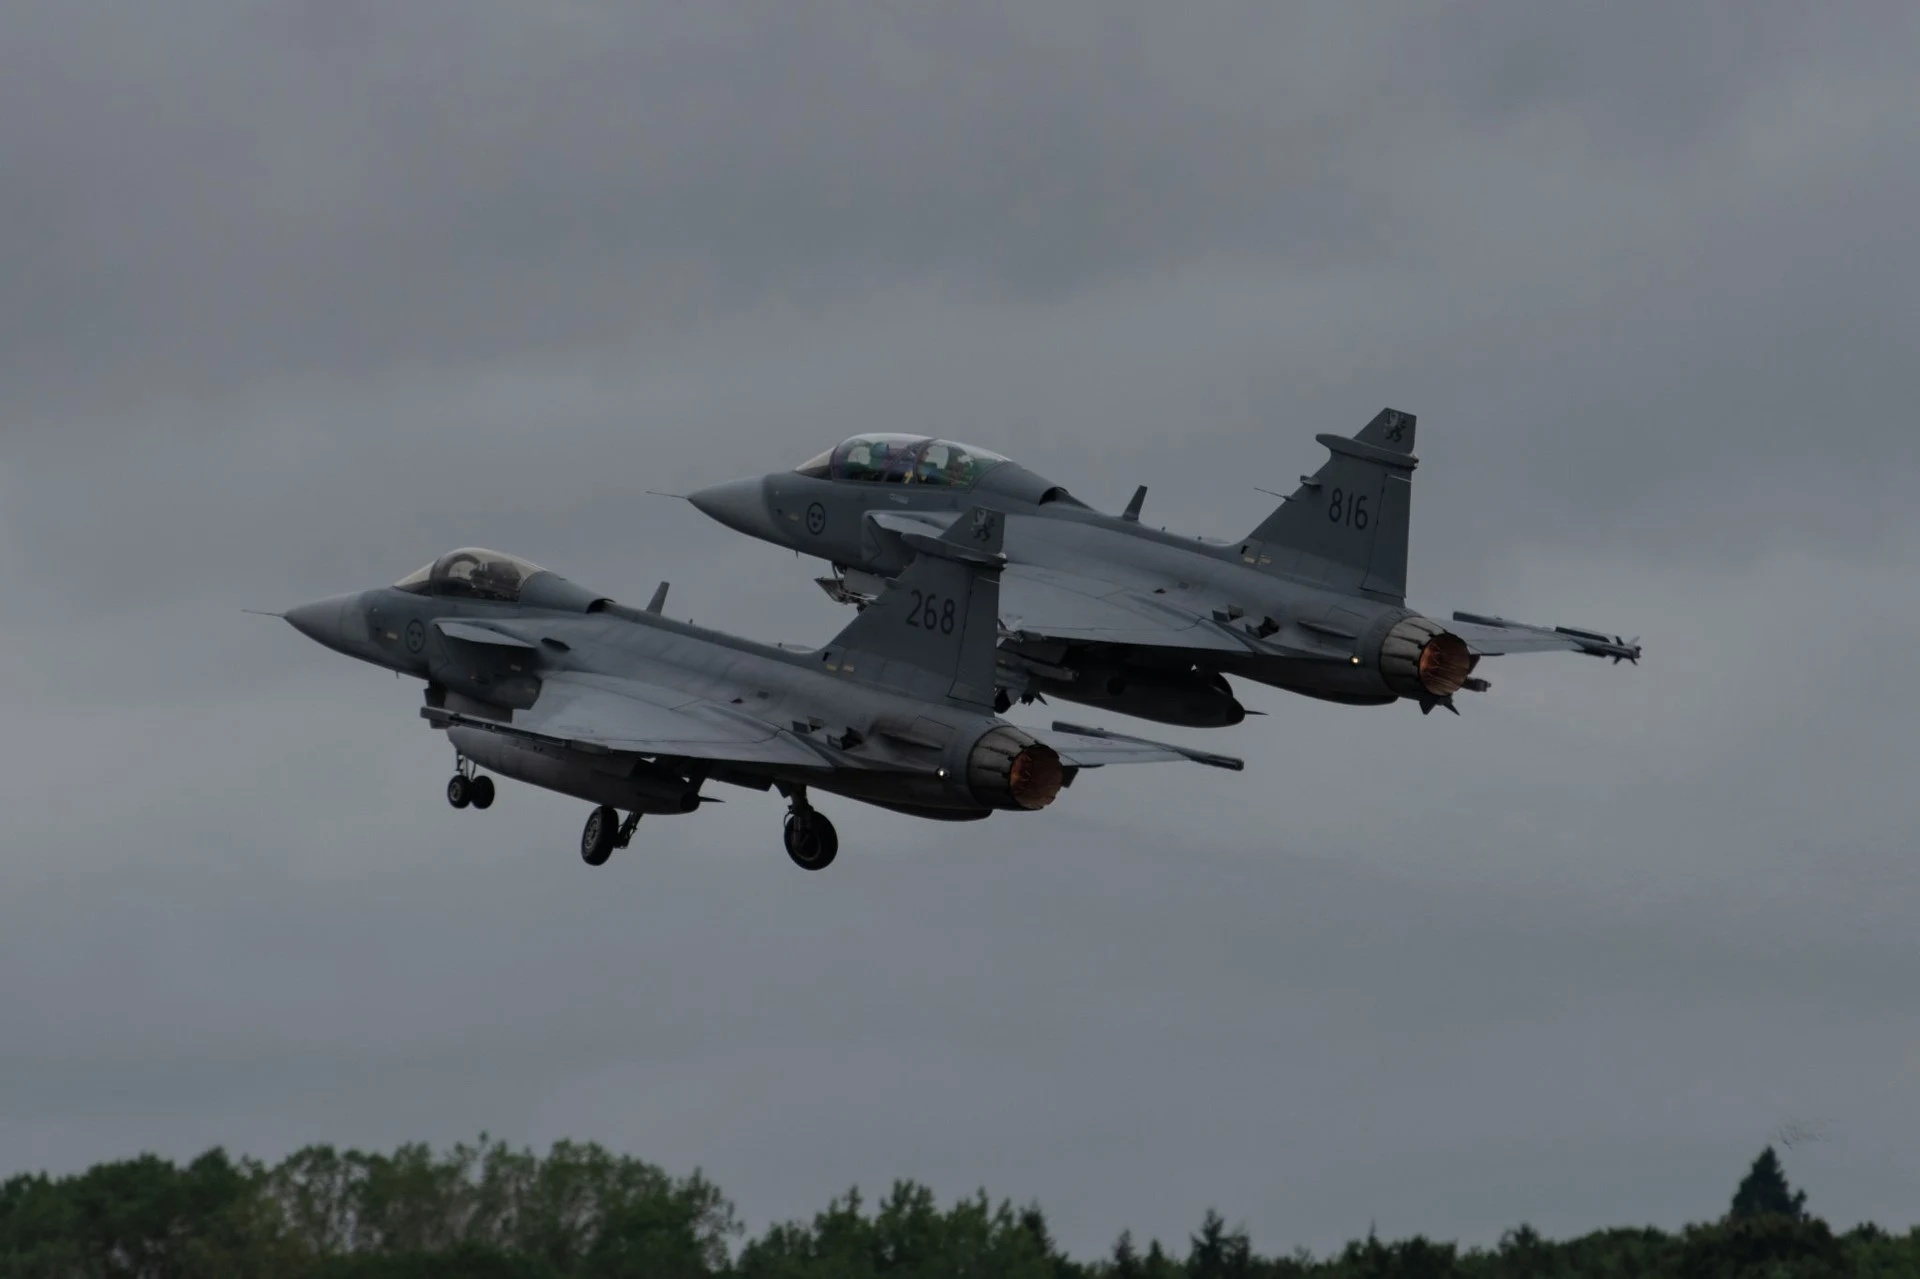JAS39: (240, 505, 1243, 871), (645, 407, 1642, 729)
